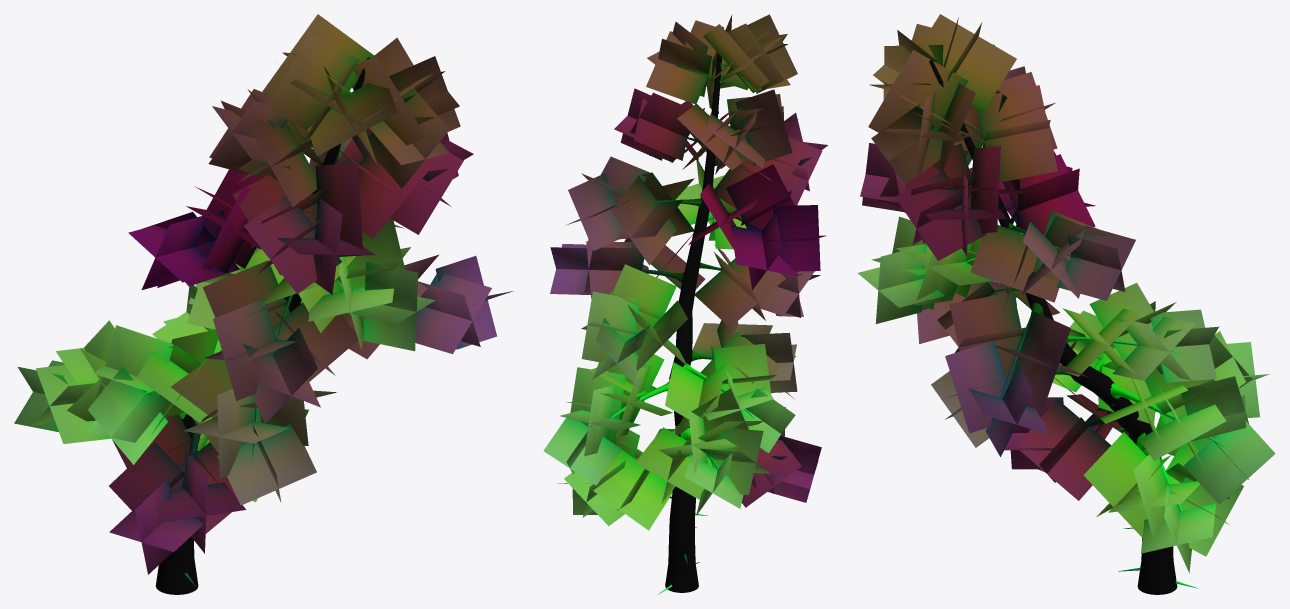
The model's file is URP_P7_Tree_5_LOD_0.fbx.
The picture shows the model from 3 angles, left to right: view 1: azimuth 30°, elevation 25°; view 2: azimuth 150°, elevation 25°; view 3: azimuth 270°, elevation 25°; orthographic projection. The views are drawn at different scales.
Parts seen in each view (by area): view 1: Tree_5_LOD_0; view 2: Tree_5_LOD_0; view 3: Tree_5_LOD_0.
Boxes of the visible parts, x1,y1,x2,y2 form: Tree_5_LOD_0: (14,14,513,594); Tree_5_LOD_0: (543,14,828,594); Tree_5_LOD_0: (857,14,1275,594).
Size of the model in its own units: 294 by 488 by 315.
